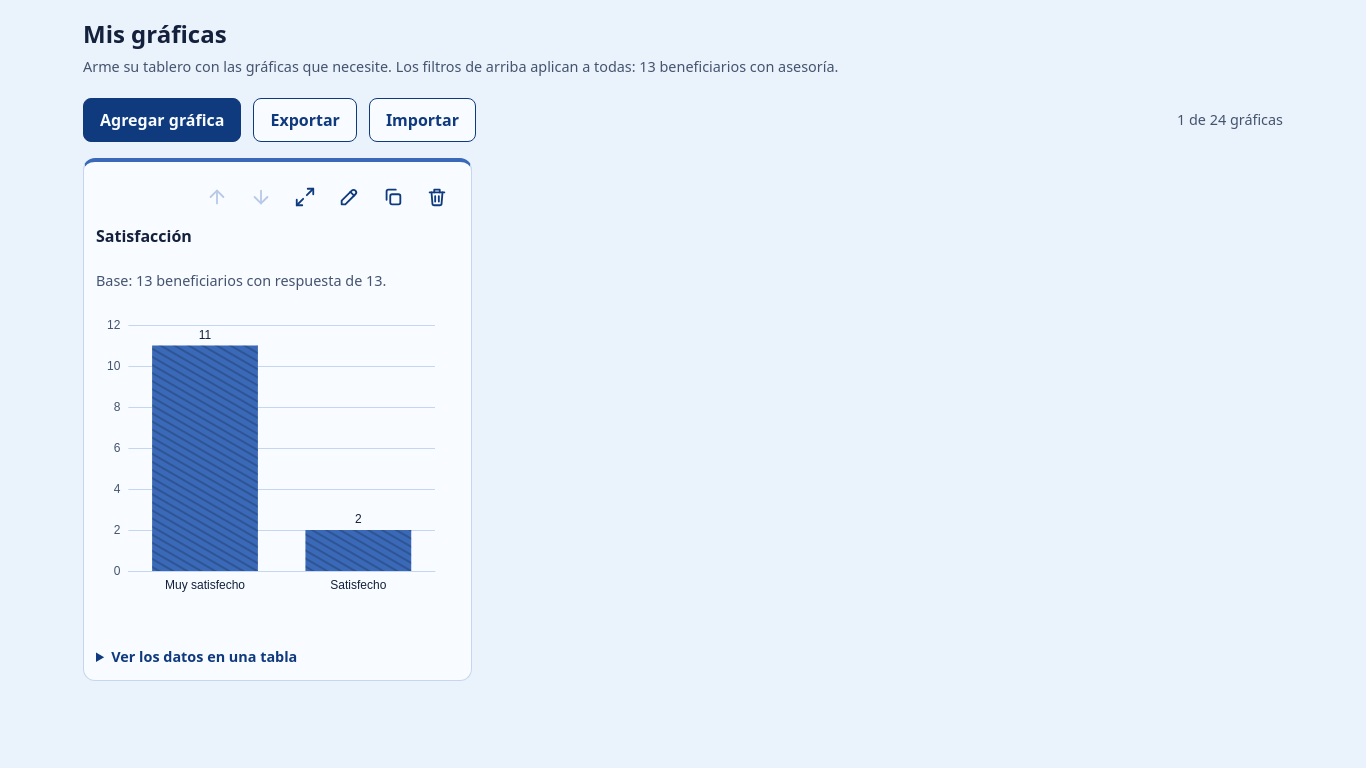
Test: PaginaGraficas: constructor en el panel › al elegir otro campo propone la gráfica de su tipo y solo ofrece las admitidas
The image size is (1366, 768).
Click the button named "Editar: Satisfacción".
click(349, 196)  # box [327,174,371,218]
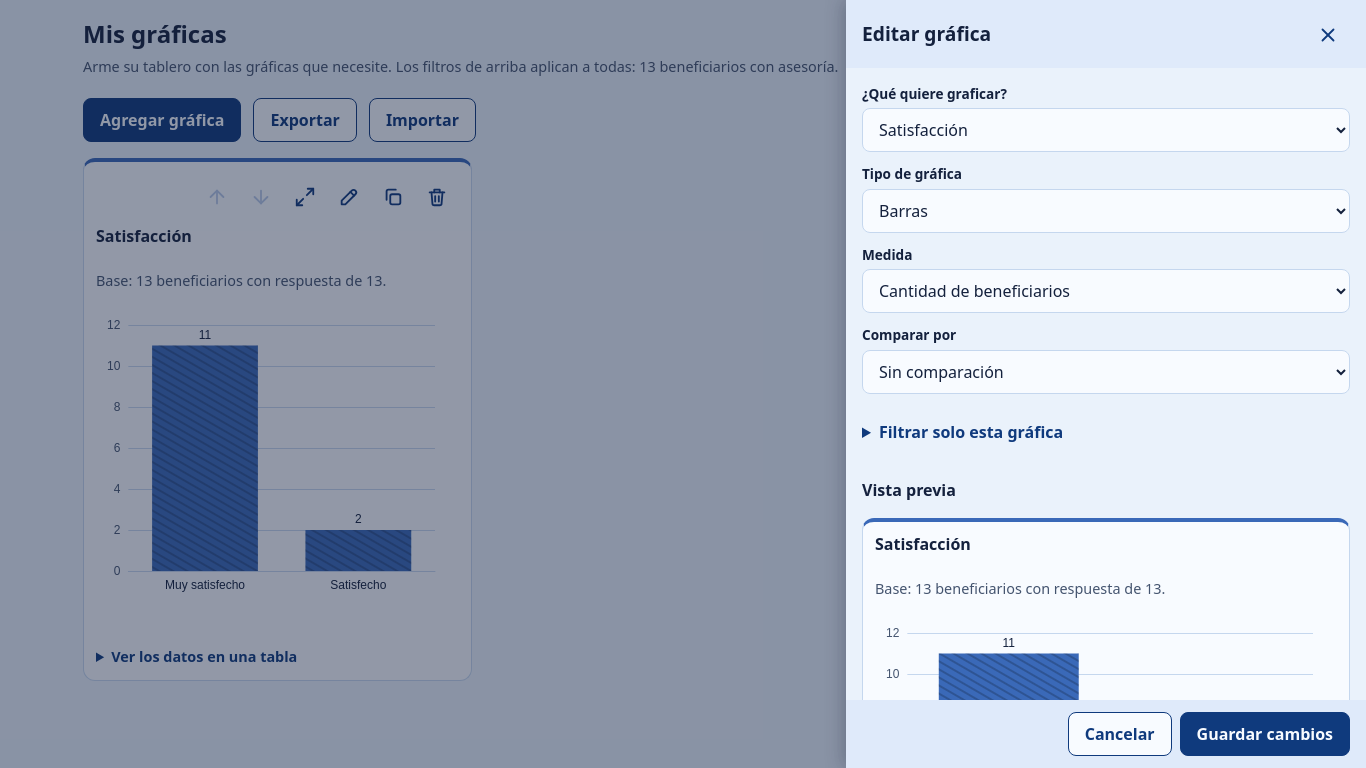
Select "Destino del crédito (mejoras logradas)" in the dropdown labelled "¿Qué quiere graficar?" at [1106, 130], box [862,108,1350,152]
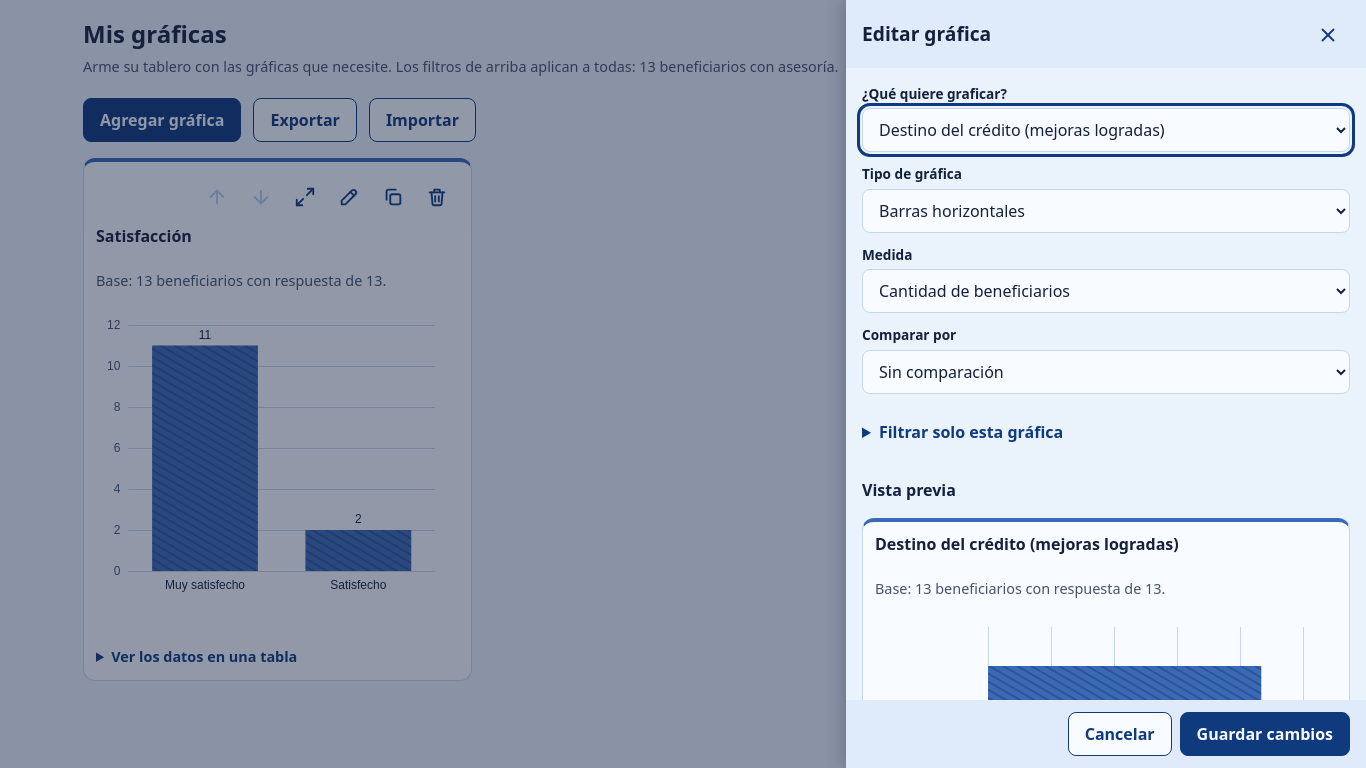
expect the dropdown labelled "Tipo de gráfica" shows "Barras horizontales": met, box [862,189,1350,233]
expect the heading "Destino del crédito (mejoras logradas)" is shown: met, box [875,533,1179,555]
